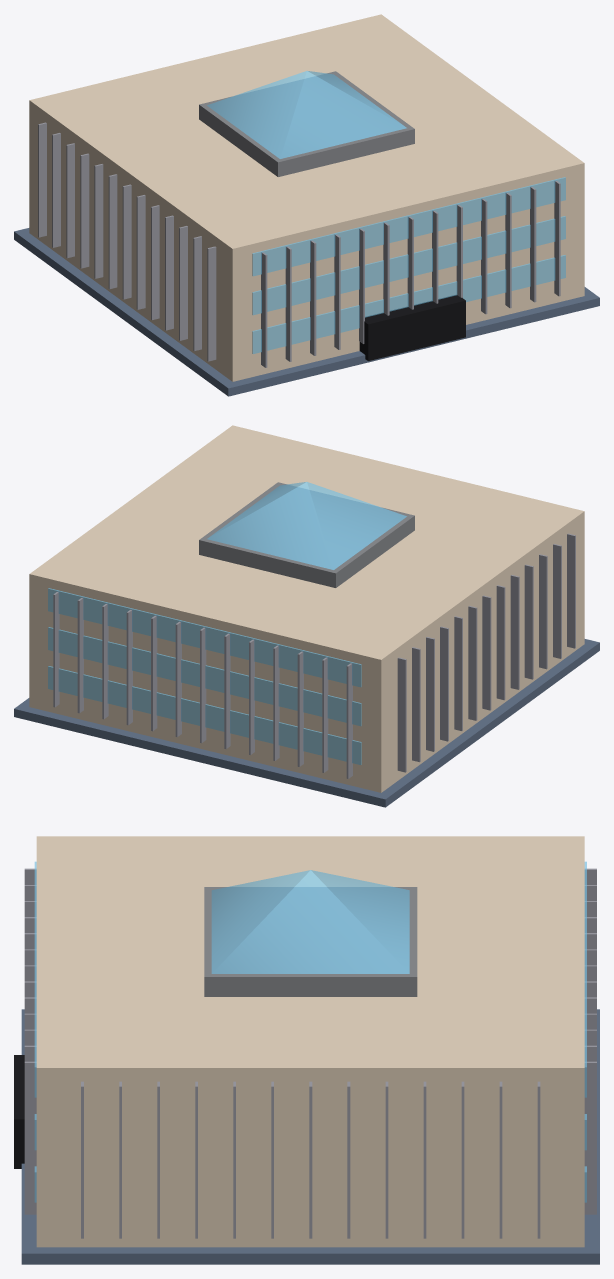
The model's file is central-library.glb.
3 renders of one model, top to bottom at view 1: azimuth 30°, elevation 25°; view 2: azimuth 150°, elevation 25°; view 3: azimuth 270°, elevation 25°, orthographic. The views are drawn at different scales.
Visible parts, largest first — view 1: Central_Library_Knowledge_Centre; view 2: Central_Library_Knowledge_Centre; view 3: Central_Library_Knowledge_Centre.
Part boxes in pixels (box(x1,y1,x2,y2)): Central_Library_Knowledge_Centre: box(14, 14, 599, 396); Central_Library_Knowledge_Centre: box(14, 425, 599, 807); Central_Library_Knowledge_Centre: box(14, 836, 599, 1264).
Bounding box in the file's own units: 38 × 19.75 × 38.5.
